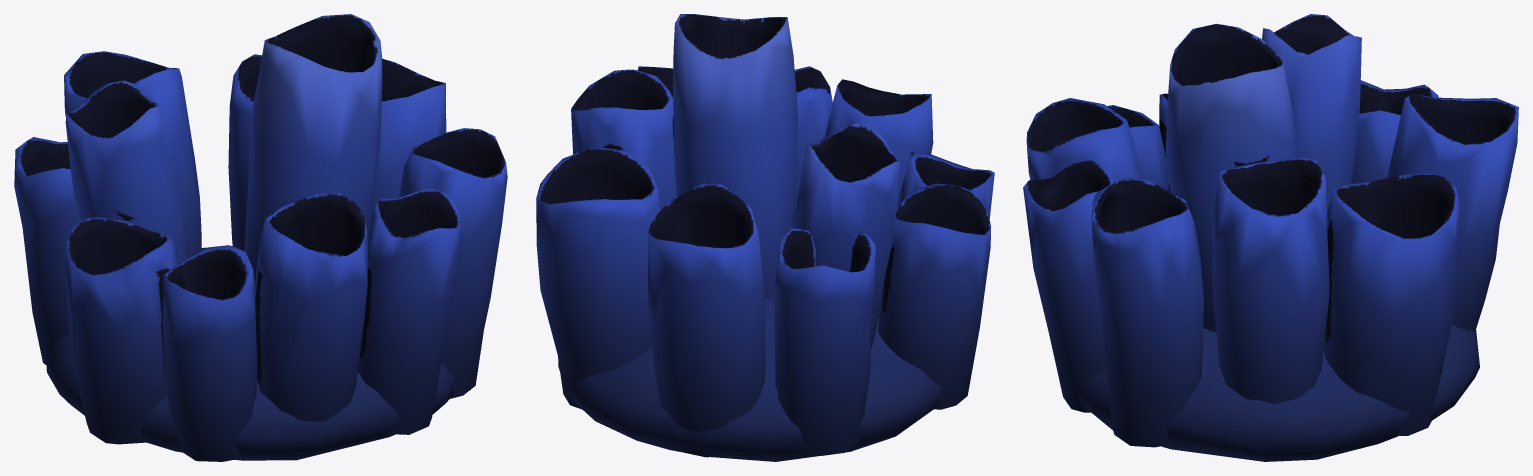
Rendered from Coral_Tube.fbx.
3 views of the same model, side by side, from view 1: azimuth 30°, elevation 25°; view 2: azimuth 150°, elevation 25°; view 3: azimuth 270°, elevation 25° (orthographic). The views are drawn at different scales.
Parts seen in each view (by area): view 1: Coral_Tube; view 2: Coral_Tube; view 3: Coral_Tube.
Boxes of the visible parts, <box> form: Coral_Tube: <box>14,14,507,461</box>; Coral_Tube: <box>536,14,994,461</box>; Coral_Tube: <box>1023,14,1518,461</box>.
Size of the model in its own units: 1.06 by 1 by 1.15.
Materials: 1 (1 with a texture image).
